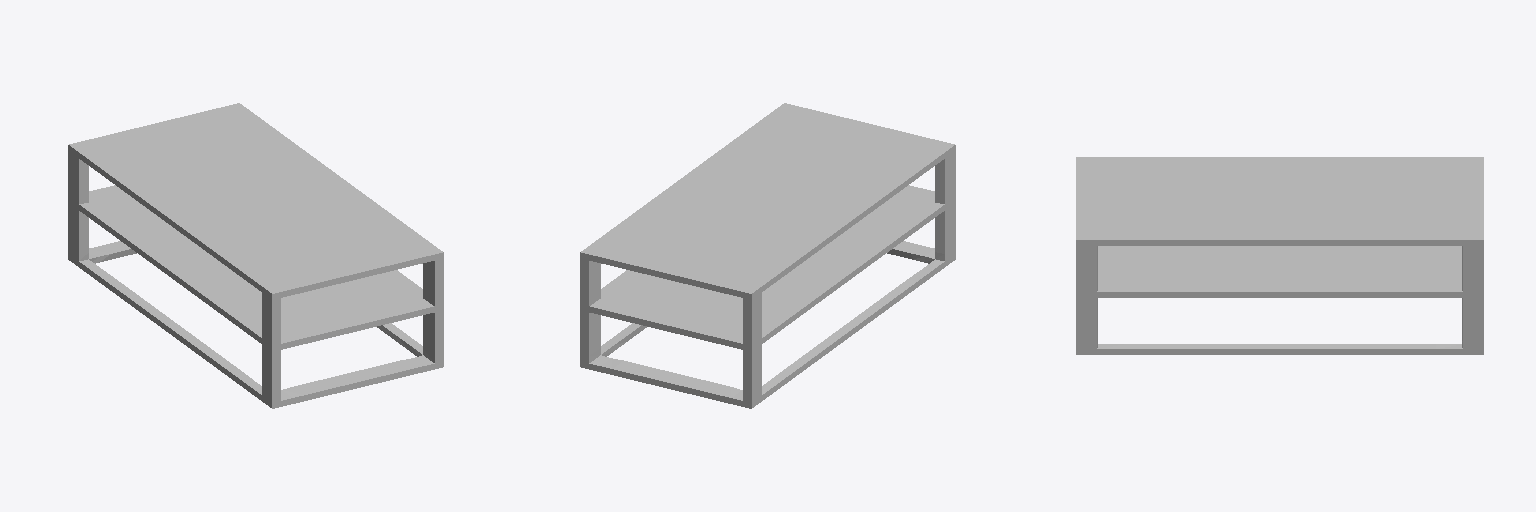
Rendered from tablebasse2.obj.
3 renders of one model, left to right at view 1: azimuth 30°, elevation 25°; view 2: azimuth 150°, elevation 25°; view 3: azimuth 270°, elevation 25°, orthographic.
Parts seen in each view (by area): view 1: Cube_Cube.001; view 2: Cube_Cube.001; view 3: Cube_Cube.001.
Part boxes in pixels (x1,y1,x2,y2): Cube_Cube.001: (68,103,443,408); Cube_Cube.001: (580,103,955,408); Cube_Cube.001: (1076,157,1483,354).
Size of the model in its own units: 2 by 1.28 by 4.13.